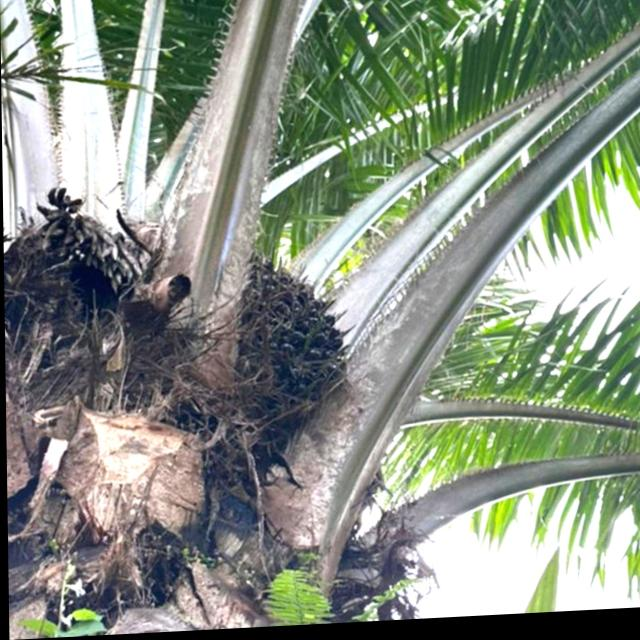unripe: (206, 246, 358, 466)
